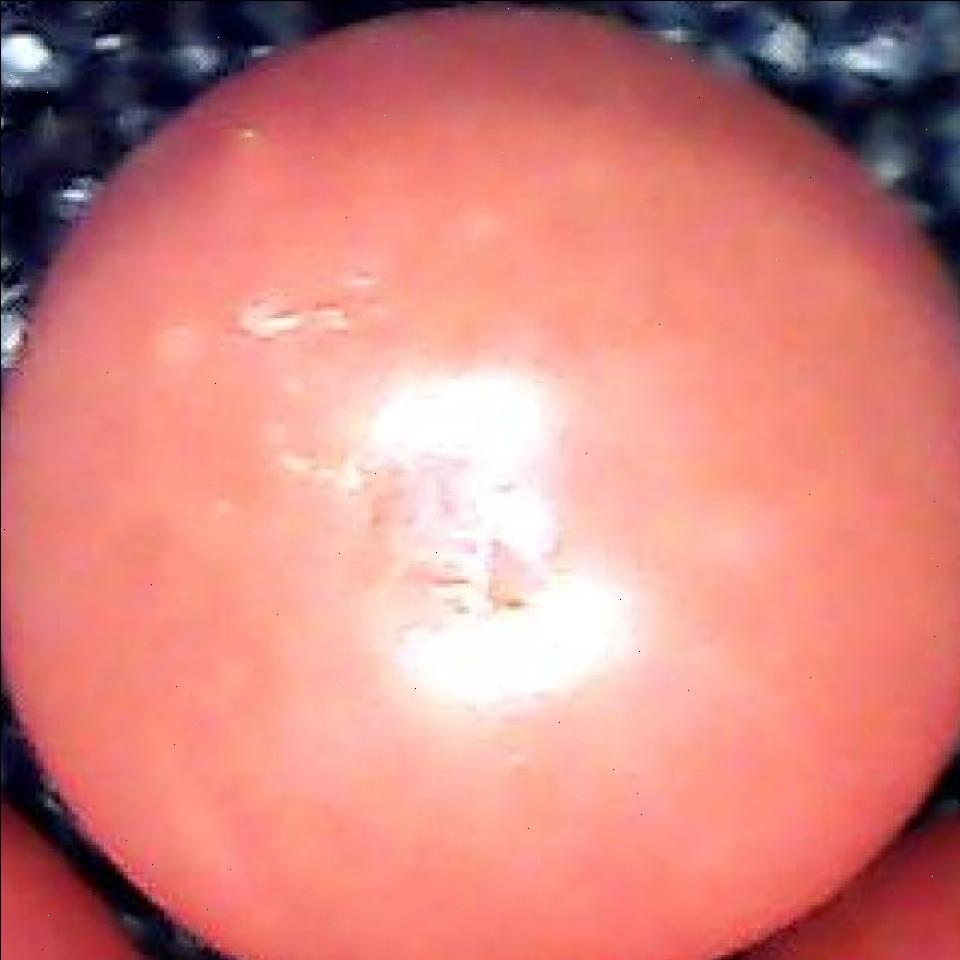Healthy: (15, 13, 960, 960)
